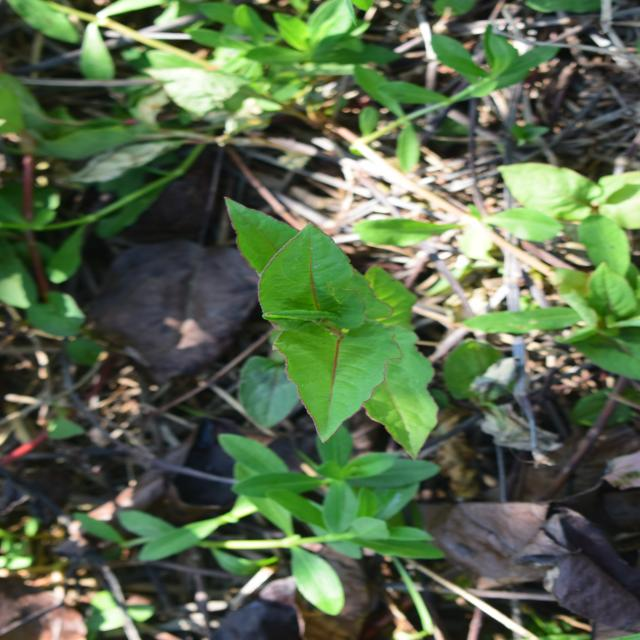Chinese_knotweed: (210, 197, 422, 441)
